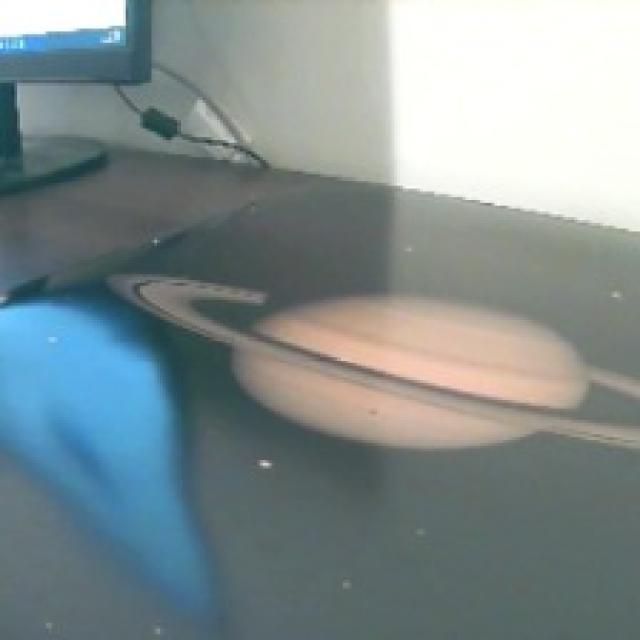Saturn: (103, 266, 640, 454)
